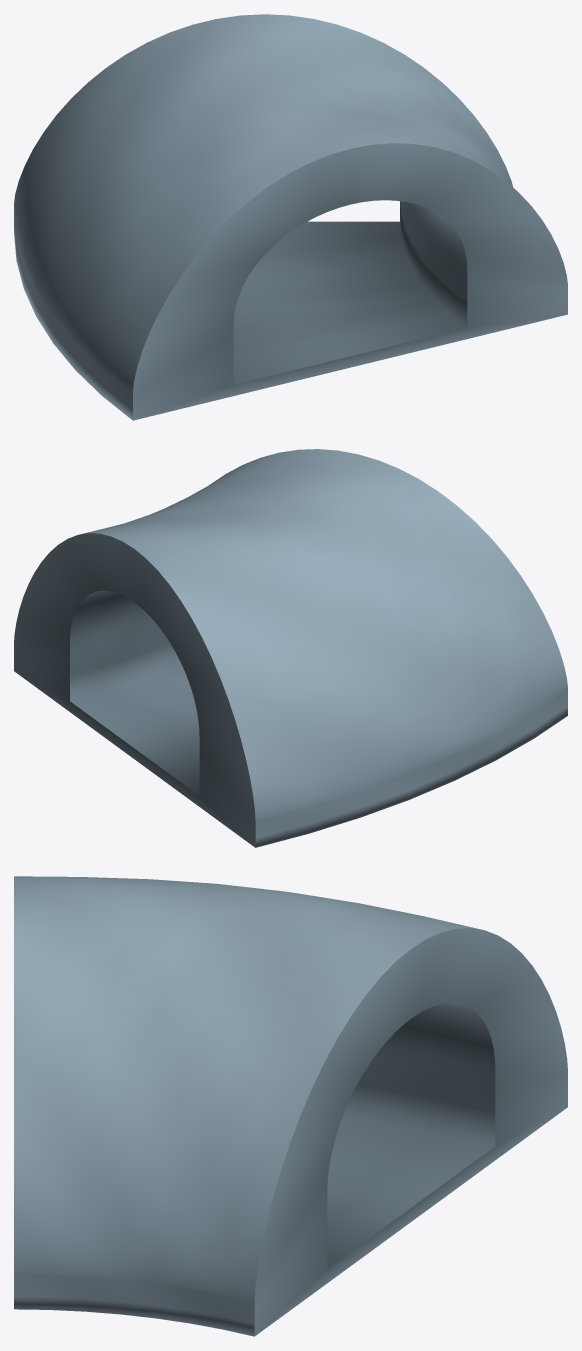
The model's file is curve_right_30_terrain_lod1.glb.
The picture shows the model from 3 angles, top to bottom: view 1: azimuth 30°, elevation 25°; view 2: azimuth 150°, elevation 25°; view 3: azimuth 270°, elevation 25°; orthographic projection. The views are drawn at different scales.
Parts seen in each view (by area): view 1: TerrainRoof.009; view 2: TerrainRoof.009; view 3: TerrainRoof.009.
Part boxes in pixels (x1,y1,x2,y2): TerrainRoof.009: [14, 14, 567, 420]; TerrainRoof.009: [14, 449, 567, 847]; TerrainRoof.009: [14, 876, 567, 1336].
Size of the model in its own units: 31.32 by 13.65 by 25.1.
